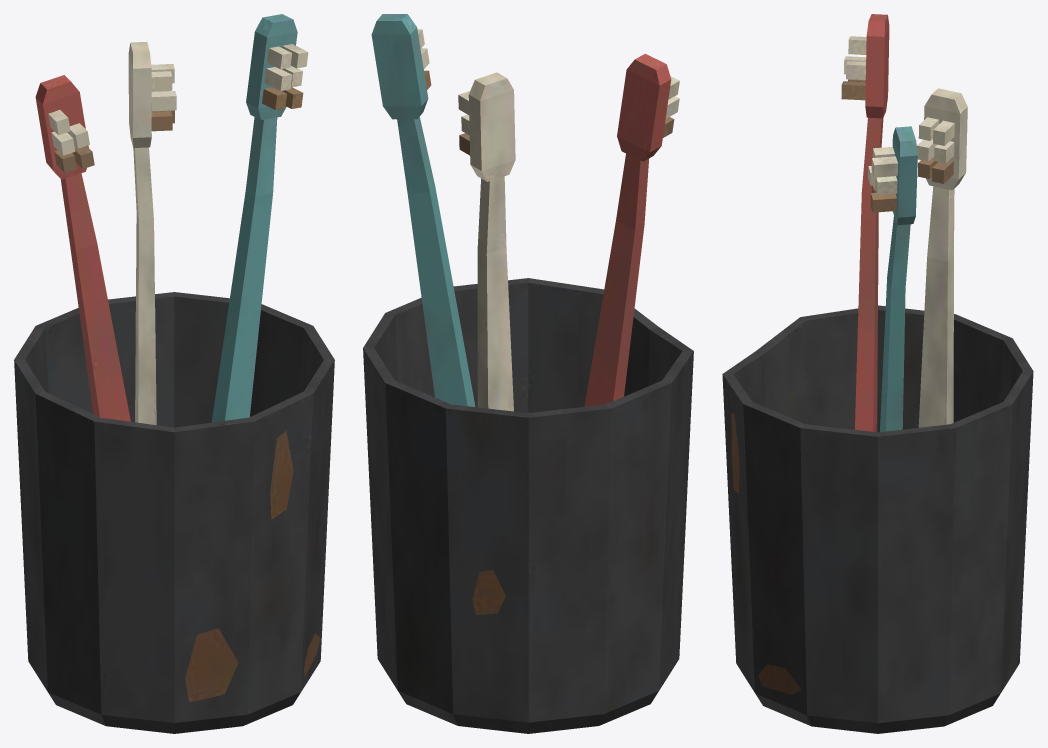
Rendered from B24_toothbrush_cup.glb.
3 views of the same model, side by side, from view 1: azimuth 30°, elevation 25°; view 2: azimuth 150°, elevation 25°; view 3: azimuth 270°, elevation 25° (orthographic). The views are drawn at different scales.
Parts seen in each view (by area): view 1: Dented steel toothbrush cup; view 2: Dented steel toothbrush cup; view 3: Dented steel toothbrush cup.
Part boxes in pixels (x1=…): Dented steel toothbrush cup: x1=14, y1=14, x2=334, y2=733; Dented steel toothbrush cup: x1=363, y1=14, x2=693, y2=733; Dented steel toothbrush cup: x1=722, y1=14, x2=1033, y2=733.
Bounding box in the file's own units: 0.0698 × 0.15 × 0.0698.
6 materials, 6 textured.
